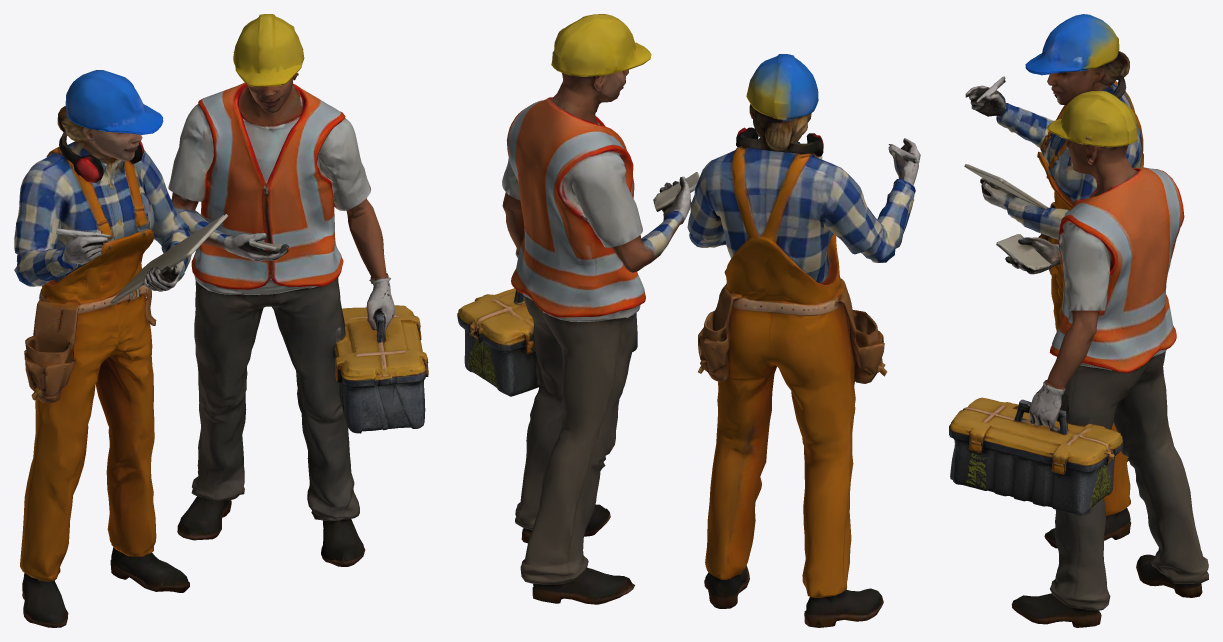
The model's file is duo.glb.
3 views of the same model, side by side, from view 1: azimuth 30°, elevation 25°; view 2: azimuth 150°, elevation 25°; view 3: azimuth 270°, elevation 25° (orthographic). The views are drawn at different scales.
Parts seen in each view (by area): view 1: tripo_node_39970add_tripo_mat_39970add_0; view 2: tripo_node_39970add_tripo_mat_39970add_0; view 3: tripo_node_39970add_tripo_mat_39970add_0.
Part boxes in pixels (x1=…): tripo_node_39970add_tripo_mat_39970add_0: x1=14, y1=14, x2=428, y2=627; tripo_node_39970add_tripo_mat_39970add_0: x1=457, y1=14, x2=920, y2=627; tripo_node_39970add_tripo_mat_39970add_0: x1=949, y1=14, x2=1208, y2=627.
Bounding box in the file's own units: 0.7878 × 0.9795 × 0.4568.
Materials: 1 (1 with a texture image).
